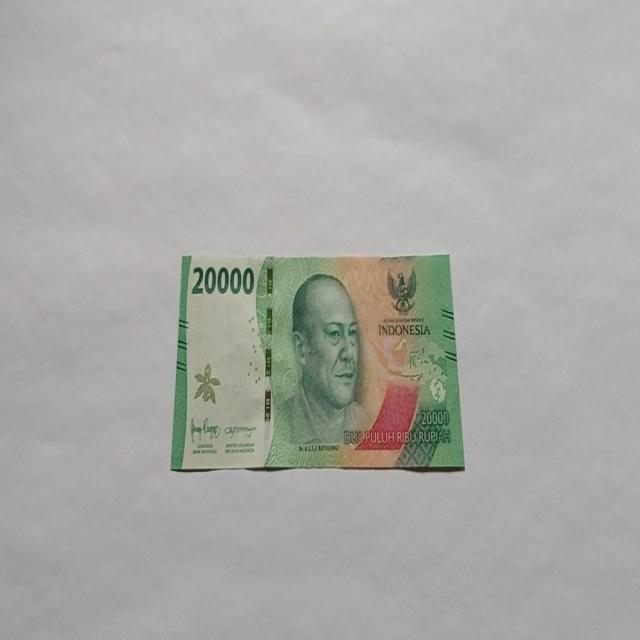dua puluh ribu rupiah: (170, 251, 465, 473)
